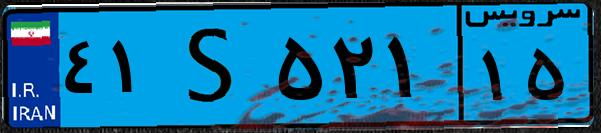1: (385, 28, 445, 110), (475, 38, 525, 113), (110, 28, 158, 98)
2: (330, 28, 385, 110)
4: (57, 26, 110, 100)
5: (270, 28, 330, 110), (525, 38, 570, 115)
S: (158, 12, 270, 120)
